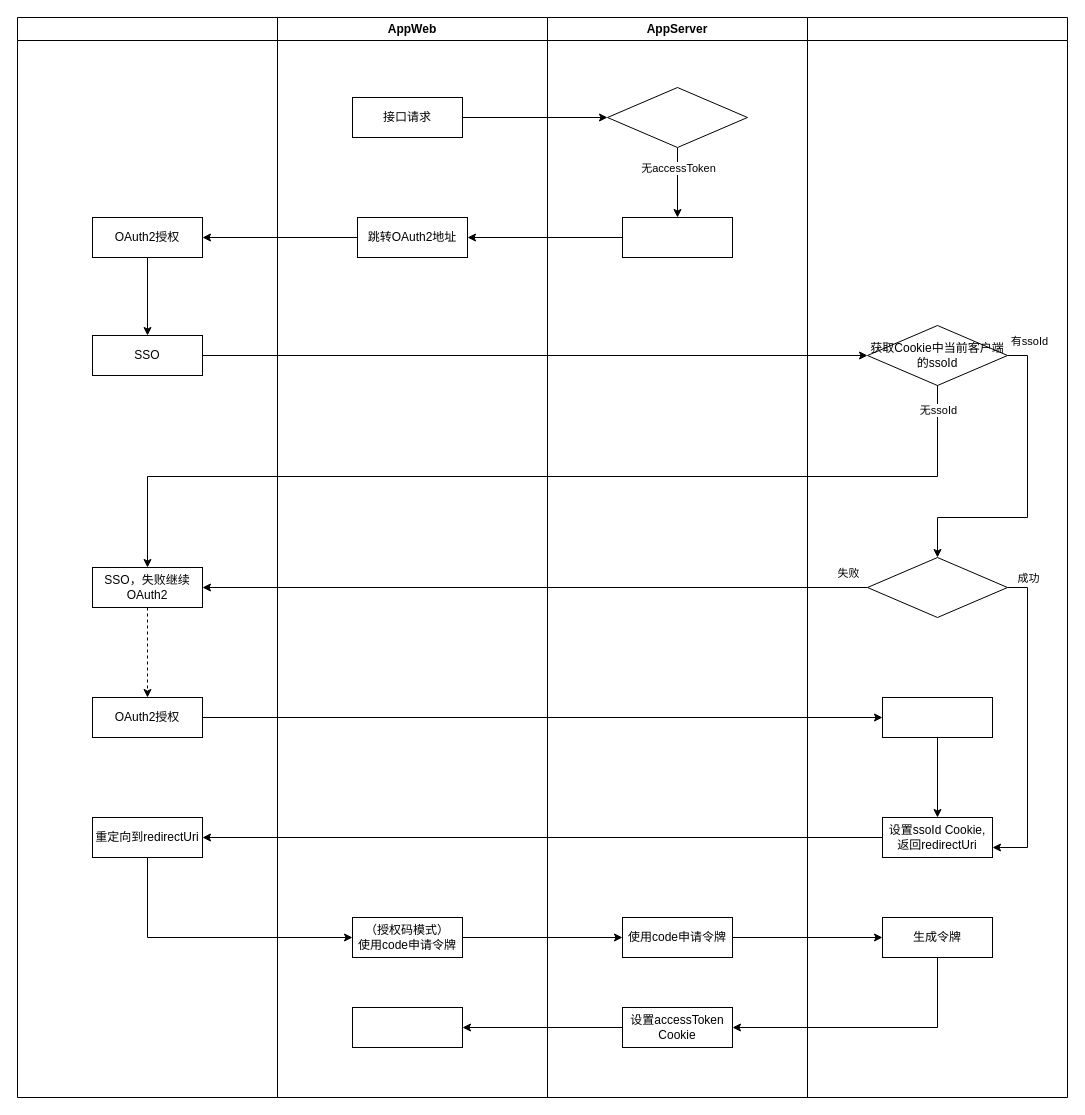
This 1085x1115 diagram has some shape labels left out. The shapes that lost their labels are listed below. From the top down, each one's box as (x1, y1, x2, y2) in pixels, then its label:
(606, 86, 748, 148): 获取Cookie中的accessToken
(622, 216, 732, 258): 返回OAuth2地址
(16, 16, 278, 1098): OAuth2Web
(806, 16, 1068, 1098): OAuth2Server
(866, 556, 1008, 618): 使用ssoId进行授权
(882, 696, 992, 738): authorize
(352, 1006, 462, 1048): 授权完成
